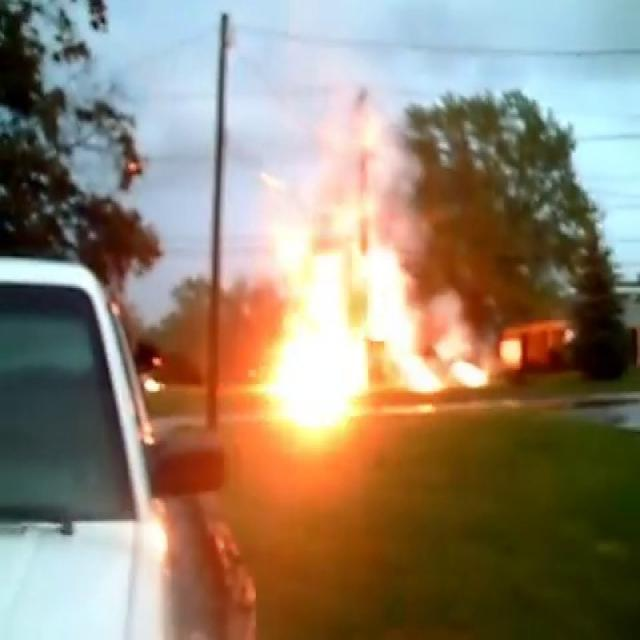Fire: (246, 114, 498, 446)
